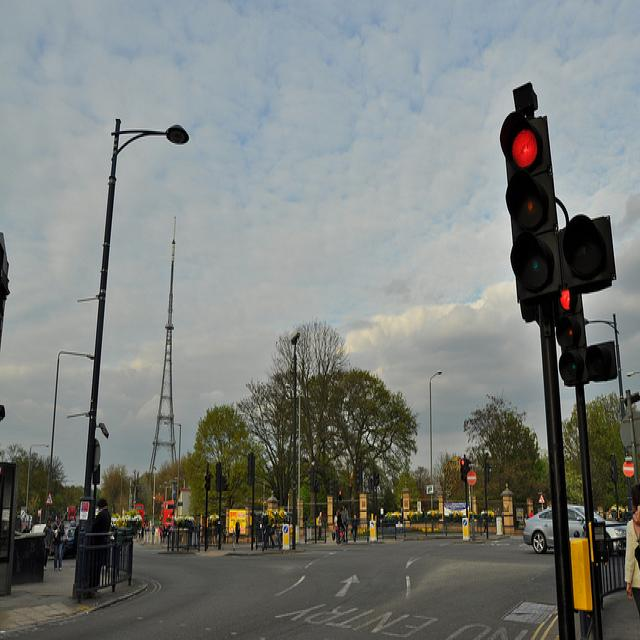Vehicle: (523, 504, 627, 554), (30, 524, 59, 536)
